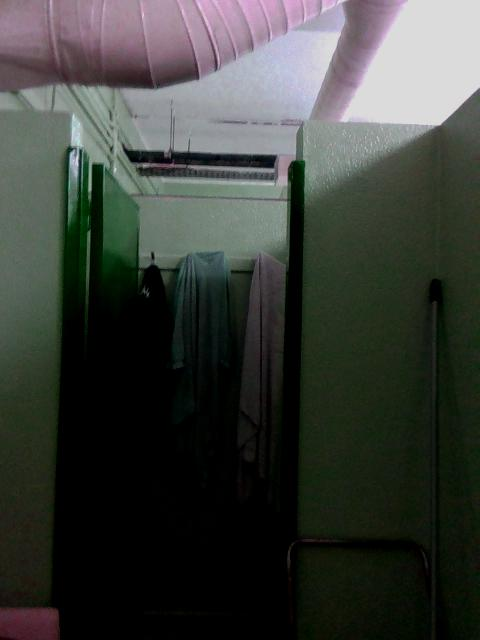open_door: (52, 161, 303, 538)
